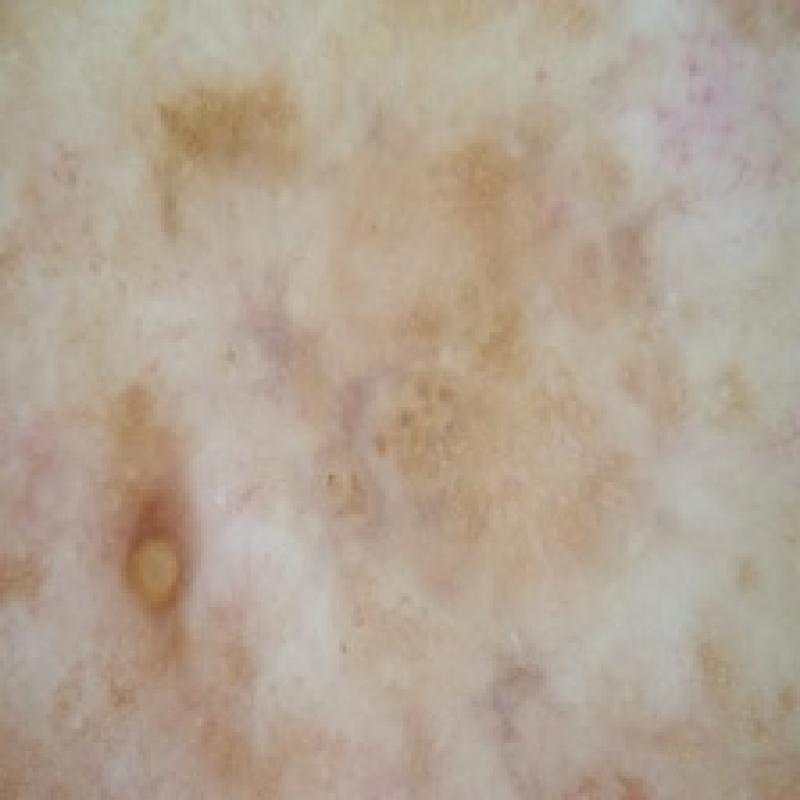malignant: (129, 77, 733, 594), (44, 410, 240, 676)
